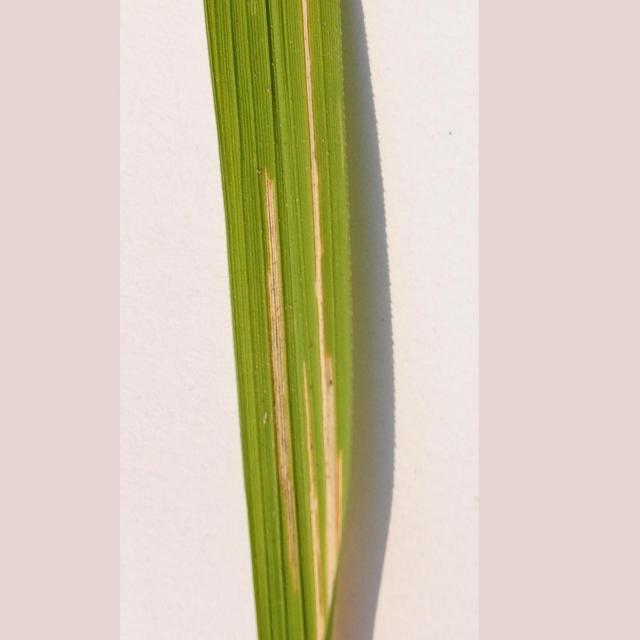leaf blight: (240, 1, 355, 636)
